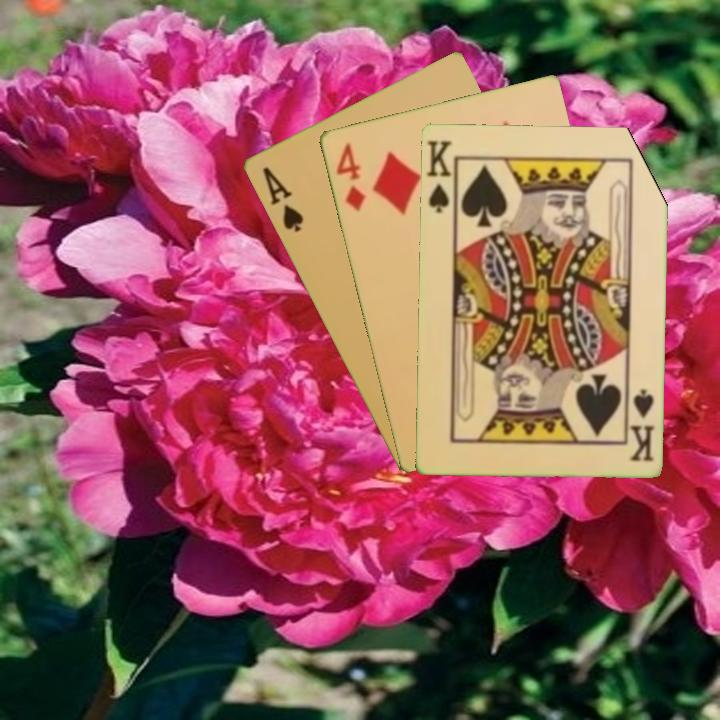4d: (332, 139, 368, 214)
As: (258, 163, 306, 235)
Ks: (423, 136, 459, 217), (625, 385, 657, 464)
